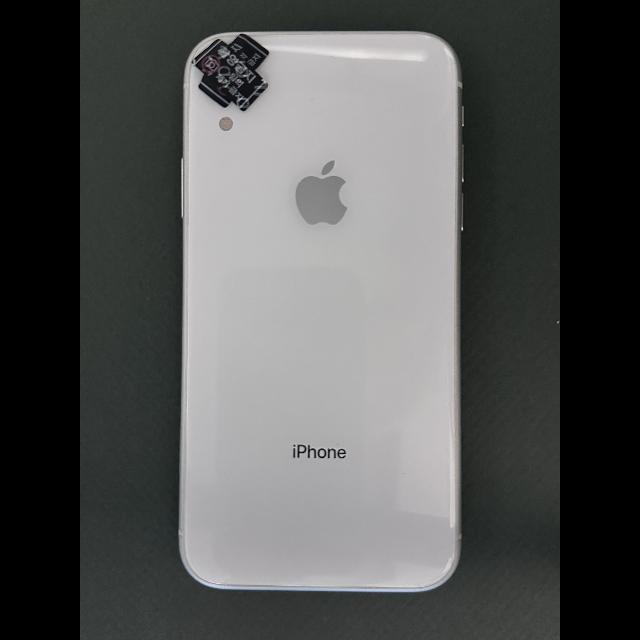phone: (178, 30, 462, 593)
sticker: (192, 39, 268, 112), (229, 34, 269, 69)
